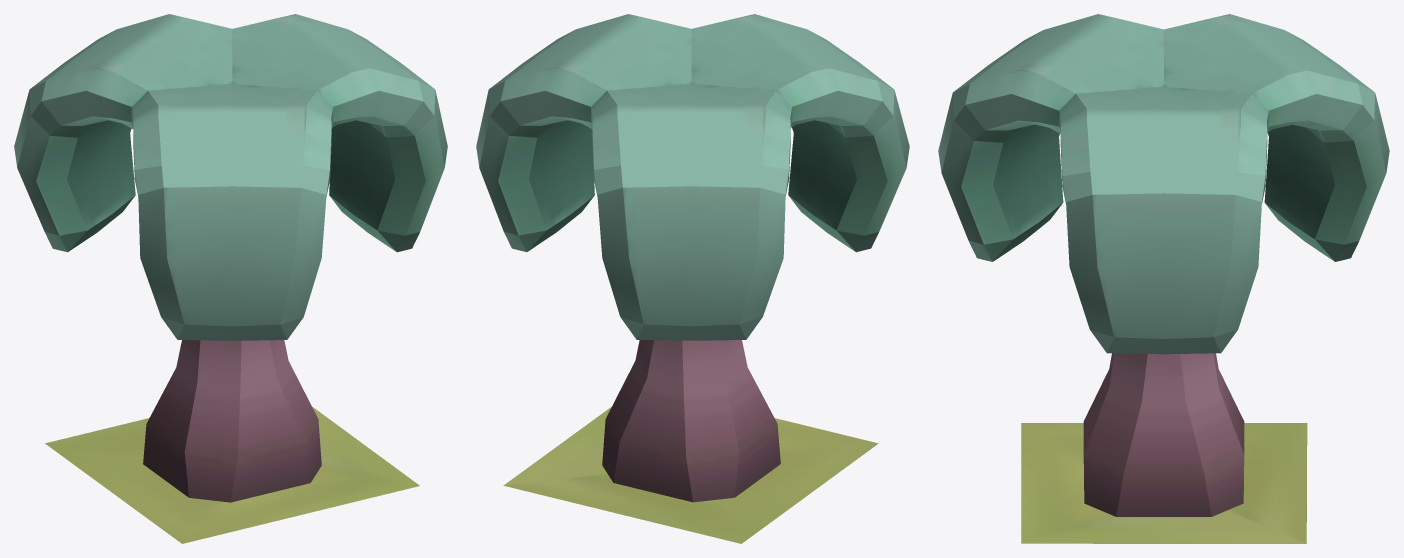
The model's file is treesml (3) #201544.fbx.
3 renders of one model, left to right at view 1: azimuth 30°, elevation 25°; view 2: azimuth 150°, elevation 25°; view 3: azimuth 270°, elevation 25°, orthographic. The views are drawn at different scales.
Visible parts, largest first — view 1: tree_sml_top, tree_sml_bot, tree_sml_shadow; view 2: tree_sml_top, tree_sml_bot, tree_sml_shadow; view 3: tree_sml_top, tree_sml_bot, tree_sml_shadow.
Boxes of the visible parts, <box> form: tree_sml_top: <box>14,14,447,340</box>; tree_sml_bot: <box>143,340,321,502</box>; tree_sml_shadow: <box>45,406,419,543</box>; tree_sml_top: <box>476,14,909,340</box>; tree_sml_bot: <box>602,340,780,502</box>; tree_sml_shadow: <box>503,407,878,543</box>; tree_sml_top: <box>938,14,1389,354</box>; tree_sml_bot: <box>1083,353,1244,516</box>; tree_sml_shadow: <box>1021,423,1307,543</box>.
Bounding box in the file's own units: 4.04 × 4.67 × 4.5.
3 materials, 3 textured.
